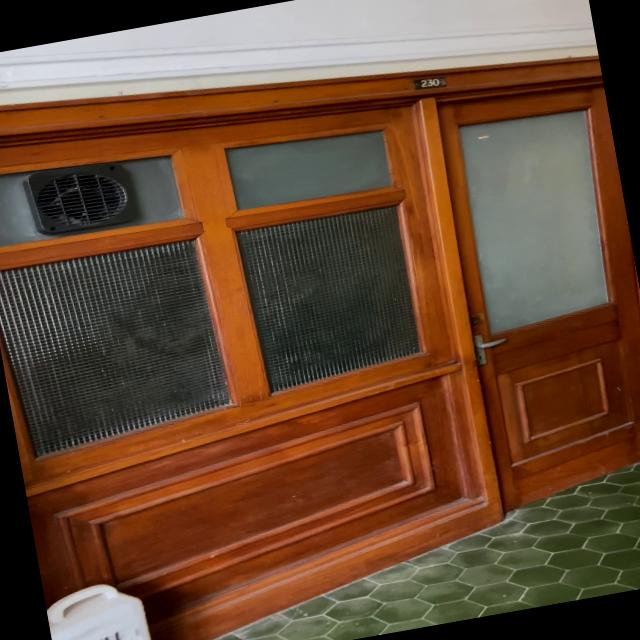room230: (410, 72, 449, 91)
